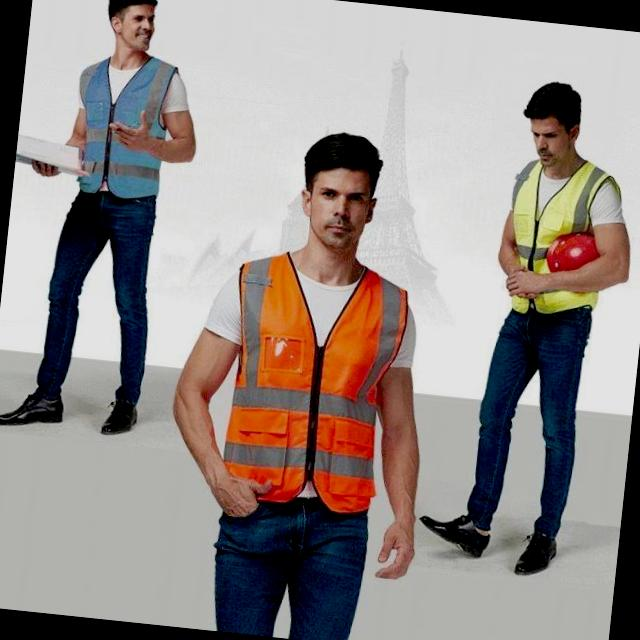vest: (213, 252, 404, 517), (491, 157, 607, 318), (66, 39, 180, 194)
